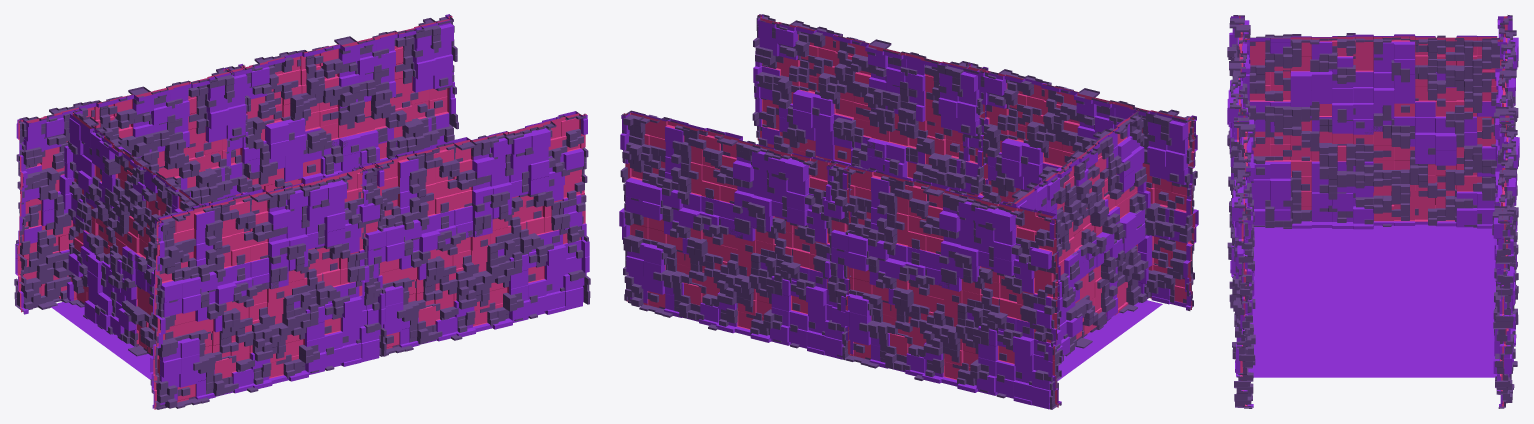
3 renders of one model, left to right at view 1: azimuth 30°, elevation 25°; view 2: azimuth 150°, elevation 25°; view 3: azimuth 270°, elevation 25°, orthographic.
Visible parts, largest first — view 1: Plane.003, Plane; view 2: Plane.003, Plane; view 3: Plane.003, Plane.
Boxes of the visible parts, x1=… form: Plane.003: x1=14, y1=14, x2=590, y2=409; Plane: x1=51, y1=302, x2=152, y2=379; Plane.003: x1=619, y1=14, x2=1198, y2=409; Plane: x1=1057, y1=300, x2=1162, y2=381; Plane.003: x1=1227, y1=15, x2=1519, y2=408; Plane: x1=1247, y1=224, x2=1495, y2=377.
Size of the model in its own units: 19107 by 8000 by 11319.
